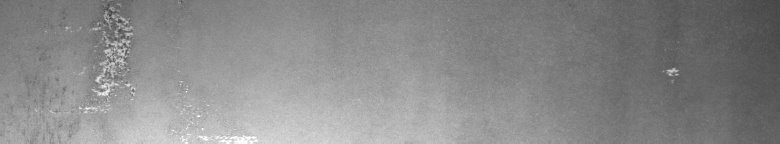hc: (36, 4, 202, 136)
